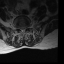CCS_severe_stenosis: (22, 27, 24, 33)
LFS_severe_stenosis: (25, 26, 27, 30)
LLS_normal: (24, 27, 25, 33)
RFS_severe_stenosis: (18, 27, 21, 31)
RLS_stenosis: (21, 28, 22, 33)
